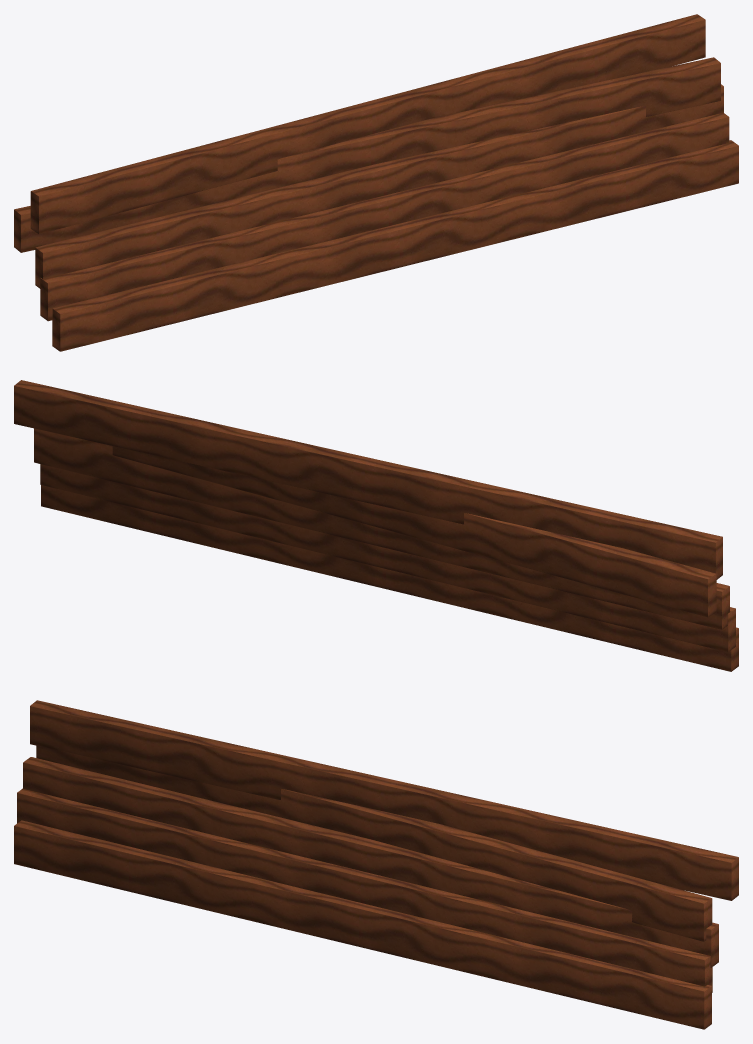
Rendered from EST-MAD-001_anim.glb.
3 views of the same model, one above another, from view 1: azimuth 30°, elevation 25°; view 2: azimuth 150°, elevation 25°; view 3: azimuth 330°, elevation 25° (orthographic).
Parts seen in each view (by area): view 1: EST-MAD-001_anim0, EST-MAD-001_anim4, EST-MAD-001_anim1, EST-MAD-001_anim2, EST-MAD-001_anim3; view 2: EST-MAD-001_anim4, EST-MAD-001_anim3, EST-MAD-001_anim1, EST-MAD-001_anim0, EST-MAD-001_anim2; view 3: EST-MAD-001_anim0, EST-MAD-001_anim4, EST-MAD-001_anim1, EST-MAD-001_anim2, EST-MAD-001_anim3.
Boxes of the visible parts, bbox=[...] form: EST-MAD-001_anim0: bbox=[52, 140, 738, 351]; EST-MAD-001_anim4: bbox=[30, 14, 705, 234]; EST-MAD-001_anim1: bbox=[40, 112, 729, 321]; EST-MAD-001_anim2: bbox=[35, 84, 723, 288]; EST-MAD-001_anim3: bbox=[14, 57, 720, 252]; EST-MAD-001_anim4: bbox=[14, 380, 722, 579]; EST-MAD-001_anim3: bbox=[112, 446, 716, 617]; EST-MAD-001_anim1: bbox=[40, 464, 735, 651]; EST-MAD-001_anim0: bbox=[41, 485, 738, 671]; EST-MAD-001_anim2: bbox=[34, 428, 729, 629]; EST-MAD-001_anim0: bbox=[14, 820, 711, 1029]; EST-MAD-001_anim4: bbox=[30, 700, 738, 900]; EST-MAD-001_anim1: bbox=[17, 788, 712, 992]; EST-MAD-001_anim2: bbox=[23, 757, 718, 967]; EST-MAD-001_anim3: bbox=[36, 745, 712, 941].
Size of the model in its own units: 3.04 by 0.6 by 0.3119.
1 material, 1 textured.
